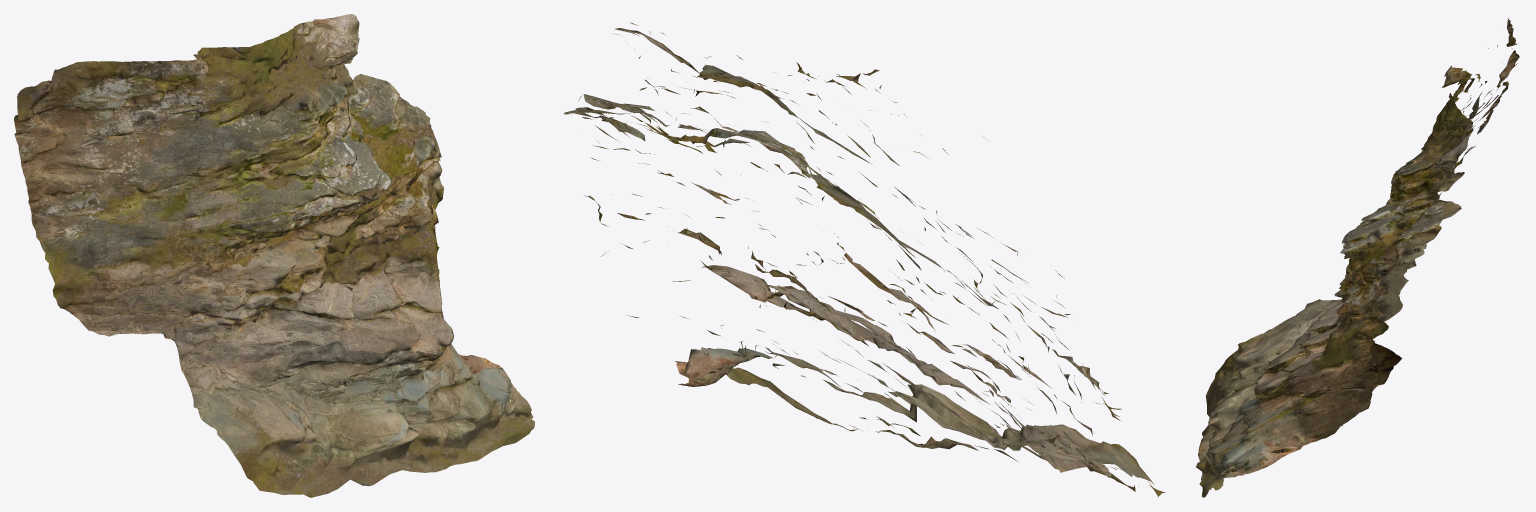
Rendered from rock-face-02.glb.
3 views of the same model, side by side, from view 1: azimuth 30°, elevation 25°; view 2: azimuth 150°, elevation 25°; view 3: azimuth 270°, elevation 25° (orthographic). The views are drawn at different scales.
Visible parts, largest first — view 1: rock_face_02; view 2: rock_face_02; view 3: rock_face_02.
Part boxes in pixels (<box>): rock_face_02: <box>14,14,534,497</box>; rock_face_02: <box>564,22,1165,496</box>; rock_face_02: <box>1196,18,1519,497</box>.
Size of the model in its own units: 5.19 by 4.73 by 4.07.
Materials: 1 (1 with a texture image).
